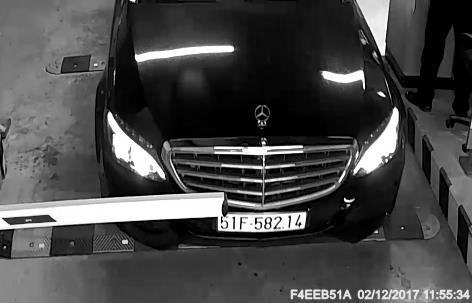License-plate: (207, 204, 319, 243)
